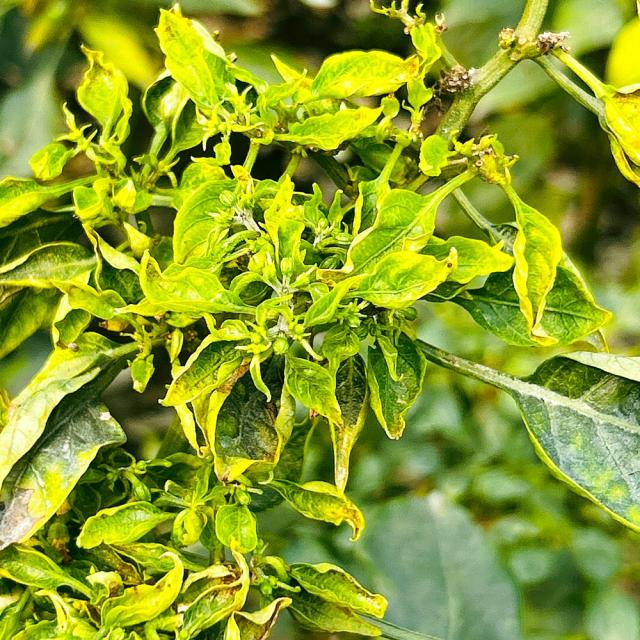Chilli_Leaf_Curl: (1, 1, 636, 638), (512, 350, 638, 533)
